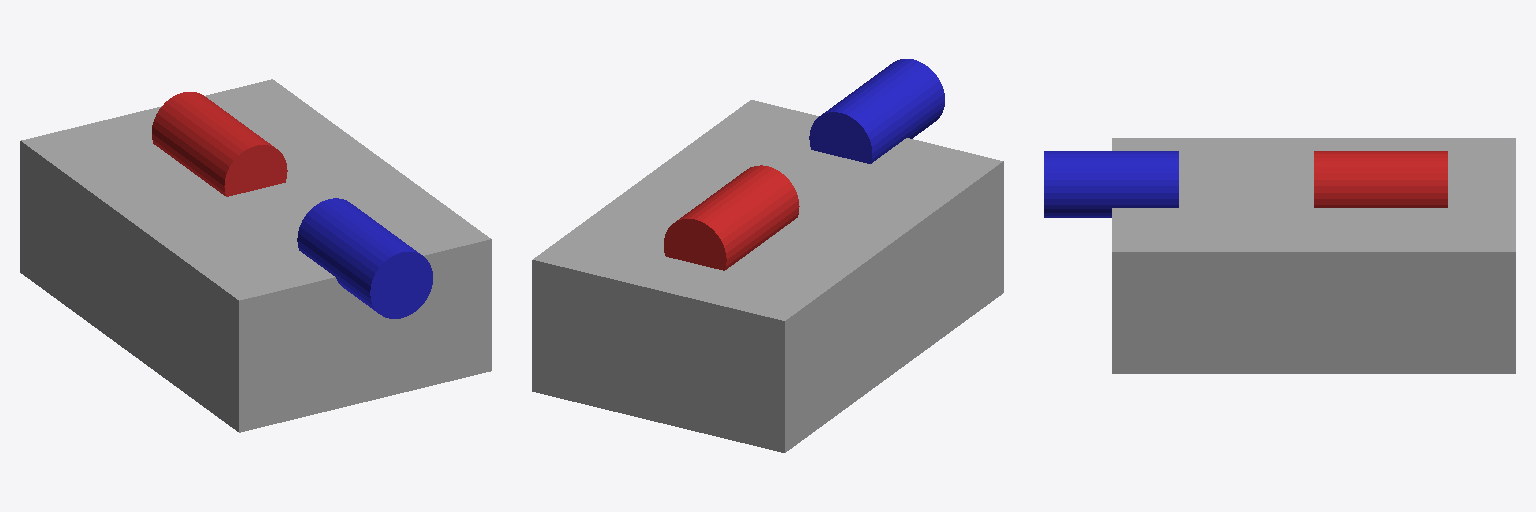
The robot description file, URDF, robot "Dual-Arms":
<?xml version="1.0" encoding="utf-8"?>
<robot name="Dual-Arms">
  <!-- Base Link -->
  <link name="base_link">
    <visual>
      <origin xyz="0 0 0.1" rpy="0 0 0"/>
      <geometry>
        <box size="0.4 0.6 0.2"/>
      </geometry>
      <material name="grey">
        <color rgba="0.7 0.7 0.7 1"/>
      </material>
    </visual>
    <collision>
      <origin xyz="0 0 0.1" rpy="0 0 0"/>
      <geometry>
        <box size="0.4 0.6 0.2"/>
      </geometry>
    </collision>
    <inertial>
      <origin xyz="0 0 0.1" rpy="0 0 0"/>
      <mass value="5.0"/>
      <inertia ixx="0.1" ixy="0.0" ixz="0.0" iyy="0.1" iyz="0.0" izz="0.1"/>
    </inertial>
  </link>

  <!-- Right Arm Link 1 -->
  <link name="r1">
    <visual>
      <origin xyz="0 0 0.1" rpy="0 0 0"/>
      <geometry>
        <cylinder radius="0.05" length="0.2"/>
      </geometry>
      <material name="blue">
        <color rgba="0.2 0.2 0.8 1"/>
      </material>
    </visual>
    <collision>
      <origin xyz="0 0 0.1" rpy="0 0 0"/>
      <geometry>
        <cylinder radius="0.05" length="0.2"/>
      </geometry>
    </collision>
    <inertial>
      <origin xyz="0 0 0.1" rpy="0 0 0"/>
      <mass value="1.0"/>
      <inertia ixx="0.01" ixy="0.0" ixz="0.0" iyy="0.01" iyz="0.0" izz="0.01"/>
    </inertial>
  </link>

  <joint name="r-j1" type="revolute">
    <origin xyz="0 -0.2 0.217" rpy="1.5708 0 0"/>
    <parent link="base_link"/>
    <child link="r1"/>
    <axis xyz="0 0 1"/>
    <limit lower="-3.14" upper="3.14" effort="100" velocity="1.0"/>
  </joint>

  <!-- Left Arm Link 1 -->
  <link name="l1">
    <visual>
      <origin xyz="0 0 0.1" rpy="0 0 0"/>
      <geometry>
        <cylinder radius="0.05" length="0.2"/>
      </geometry>
      <material name="red">
        <color rgba="0.8 0.2 0.2 1"/>
      </material>
    </visual>
    <collision>
      <origin xyz="0 0 0.1" rpy="0 0 0"/>
      <geometry>
        <cylinder radius="0.05" length="0.2"/>
      </geometry>
    </collision>
    <inertial>
      <origin xyz="0 0 0.1" rpy="0 0 0"/>
      <mass value="1.0"/>
      <inertia ixx="0.01" ixy="0.0" ixz="0.0" iyy="0.01" iyz="0.0" izz="0.01"/>
    </inertial>
  </link>

  <joint name="l-j1" type="revolute">
    <origin xyz="0 0.2 0.217" rpy="1.5708 0 0"/>
    <parent link="base_link"/>
    <child link="l1"/>
    <axis xyz="0 0 1"/>
    <limit lower="-3.14" upper="3.14" effort="100" velocity="1.0"/>
  </joint>

</robot>

--- What the picture shows (computed from the rendered views, not written in the file) ---
Views: 3 orthographic renders of the robot side by side, from view 1: azimuth 30°, elevation 25°; view 2: azimuth 150°, elevation 25°; view 3: azimuth 270°, elevation 25°.
Model Dual-Arms with 3 links and 2 joints (2 revolute), rooted at base_link, posed every joint at zero.
Links seen in each view (by area): view 1: base_link, r1, l1; view 2: base_link, r1, l1; view 3: base_link, r1, l1.
Link boxes in pixels (x1,y1,x2,y2): base_link: (20, 79, 491, 432); r1: (297, 198, 432, 318); l1: (152, 92, 287, 196); base_link: (532, 100, 1003, 452); r1: (809, 59, 944, 163); l1: (664, 165, 799, 270); base_link: (1112, 138, 1515, 373); r1: (1044, 151, 1178, 217); l1: (1314, 151, 1447, 207).
Size in the robot's own frame: 0.4 by 0.7 by 0.267 metres.
Geometry: primitives only (box / cylinder / sphere), no mesh files.
